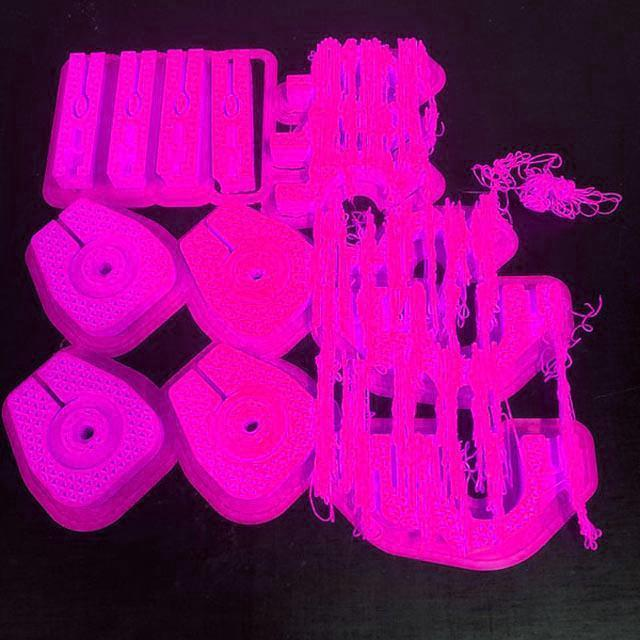spaghetti: (304, 32, 640, 558), (469, 148, 631, 226)
